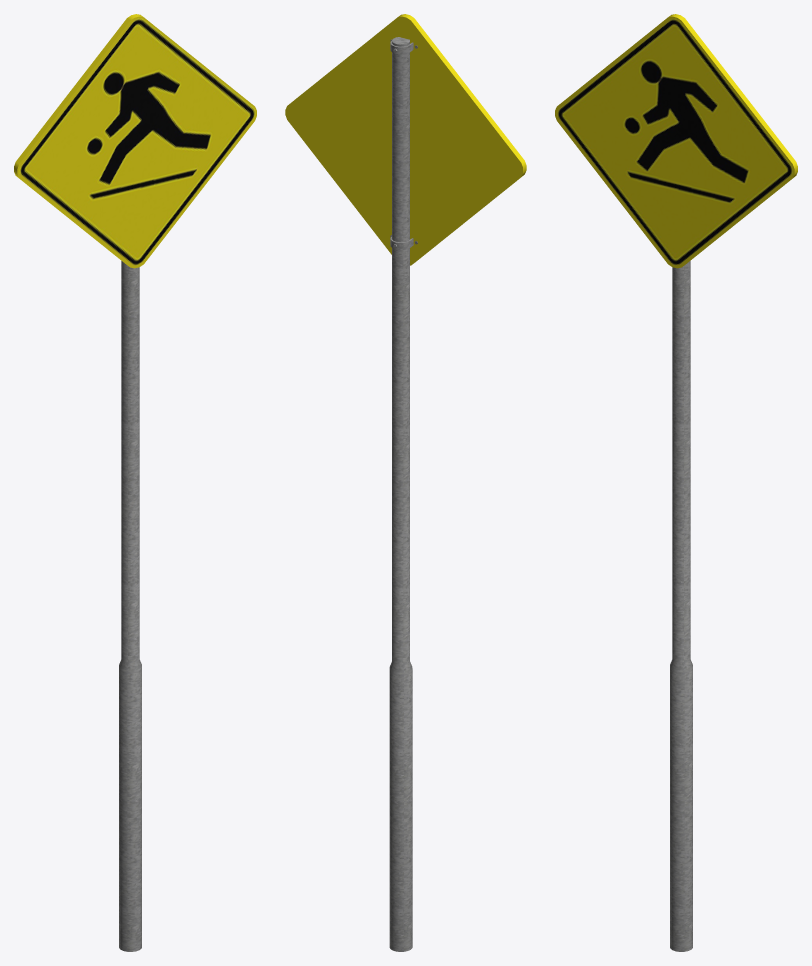
File: Driving_Sim_Model_PlayGround.fbx
3 views of the same model, side by side, from view 1: azimuth 30°, elevation 25°; view 2: azimuth 150°, elevation 25°; view 3: azimuth 330°, elevation 25° (orthographic).
Visible parts, largest first — view 1: pCube1, mast-031; view 2: pCube1, mast-031; view 3: pCube1, mast-031.
Part boxes in pixels (x1,y1,x2,y2): pCube1: (14, 14, 256, 268); mast-031: (119, 261, 141, 951); pCube1: (285, 14, 526, 265); mast-031: (389, 37, 412, 951); pCube1: (555, 14, 797, 268); mast-031: (670, 261, 692, 951).
Size of the model in its own units: 0.7122 by 2.66 by 0.0664.
